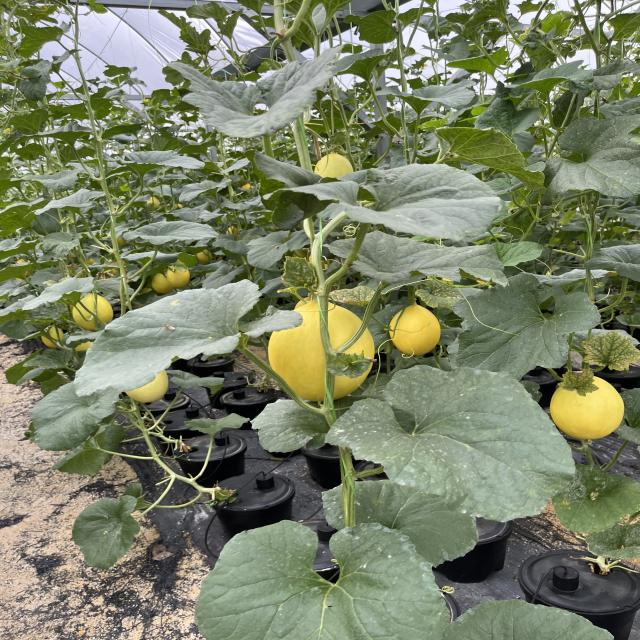CMV: (545, 116, 640, 201), (434, 125, 550, 193), (584, 329, 640, 370), (414, 281, 464, 311)
SLCV: (277, 253, 320, 294), (556, 368, 604, 398), (320, 287, 378, 311)
alternaria leaf blight: (550, 459, 640, 538)
downy mildew: (332, 364, 580, 526), (186, 520, 453, 640), (66, 283, 301, 395), (317, 477, 485, 568), (431, 591, 619, 640), (579, 239, 640, 283), (593, 59, 640, 92)
healthy: (244, 160, 509, 233), (450, 274, 604, 378), (330, 233, 519, 283), (28, 383, 122, 450), (71, 497, 143, 569), (250, 399, 332, 454), (383, 78, 488, 120), (19, 273, 95, 314), (101, 145, 201, 174), (507, 60, 592, 94), (116, 219, 220, 245), (9, 123, 98, 153), (245, 230, 310, 270), (432, 45, 510, 75), (341, 9, 398, 47), (50, 448, 122, 478), (336, 47, 394, 84), (490, 240, 556, 267), (17, 168, 86, 192), (41, 190, 102, 217), (182, 1, 234, 24), (36, 231, 86, 252), (120, 250, 184, 265), (397, 7, 437, 28), (217, 12, 245, 37)
